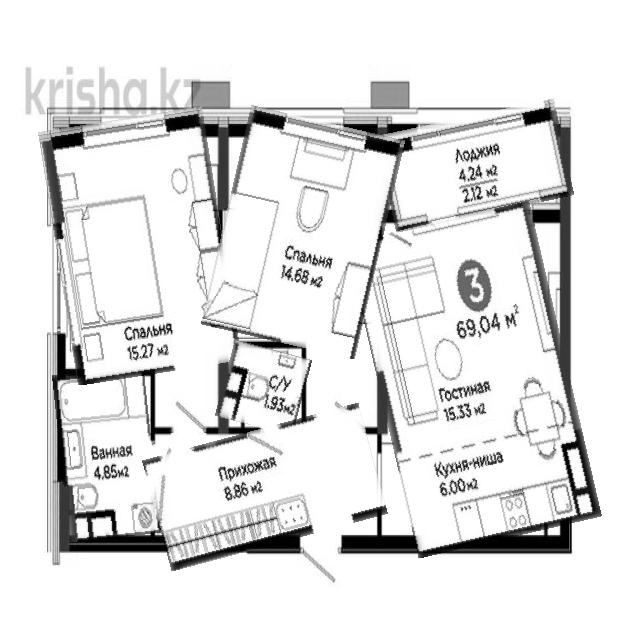balcony: (380, 107, 570, 224)
bathroom: (57, 368, 157, 540), (220, 343, 308, 432)
hallway: (148, 416, 382, 557)
living_room: (48, 112, 232, 379), (212, 113, 394, 352)
studio: (363, 210, 585, 550)
